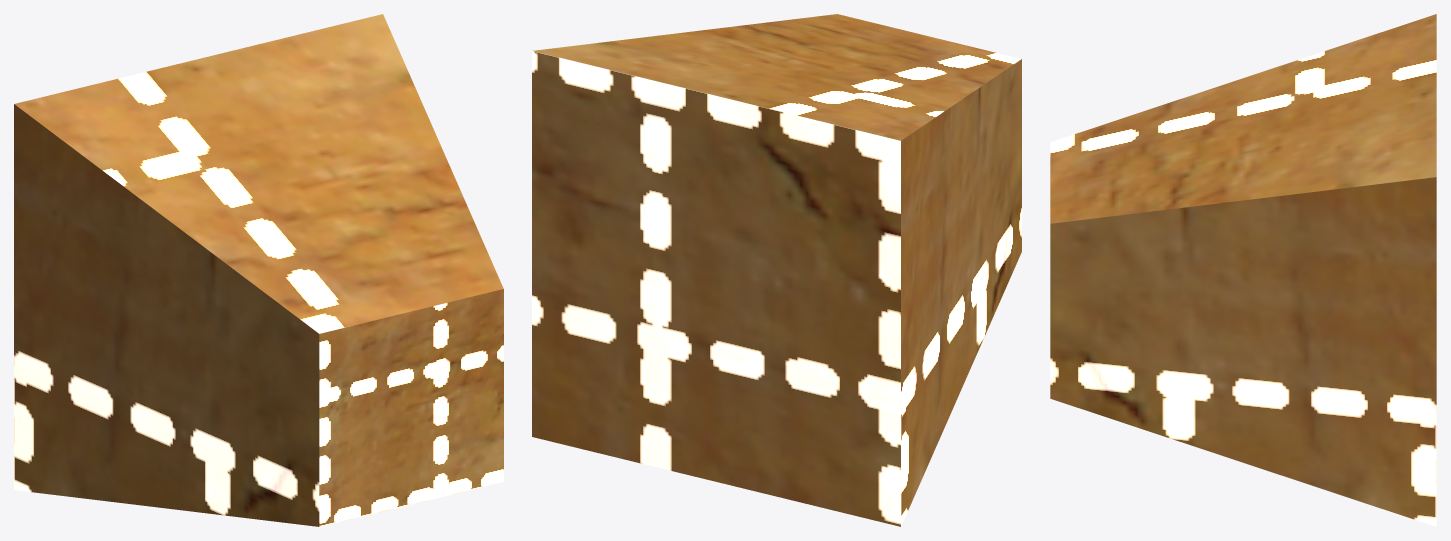
The model's file is blocks-ramp-single-flat.glb.
3 renders of one model, left to right at view 1: azimuth 30°, elevation 25°; view 2: azimuth 150°, elevation 25°; view 3: azimuth 270°, elevation 25°, orthographic. The views are drawn at different scales.
Parts seen in each view (by area): view 1: Block-Ramp-Single-1; view 2: Block-Ramp-Single-1; view 3: Block-Ramp-Single-1.
Part boxes in pixels (bbox=[...]): Block-Ramp-Single-1: bbox=[14, 14, 503, 526]; Block-Ramp-Single-1: bbox=[532, 14, 1021, 526]; Block-Ramp-Single-1: bbox=[1050, 14, 1436, 526].
Bounding box in the file's own units: 2 × 2 × 2.
Materials: 1 (1 with a texture image).
